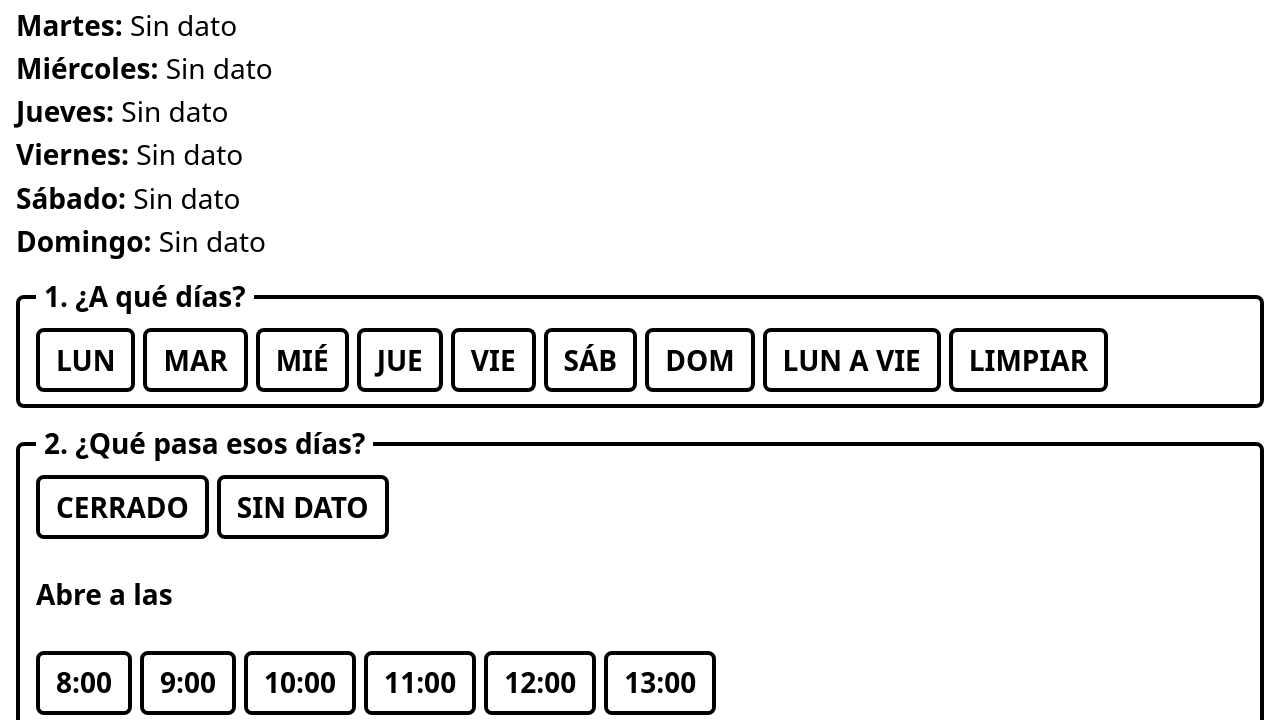
Test case: horario del local (editor con botones) › un error al guardar se muestra y deja los cambios sin guardar
(page scrolled)
Click the button "LUN" at (86, 360), box x1=36 y1=328 x2=136 y2=392
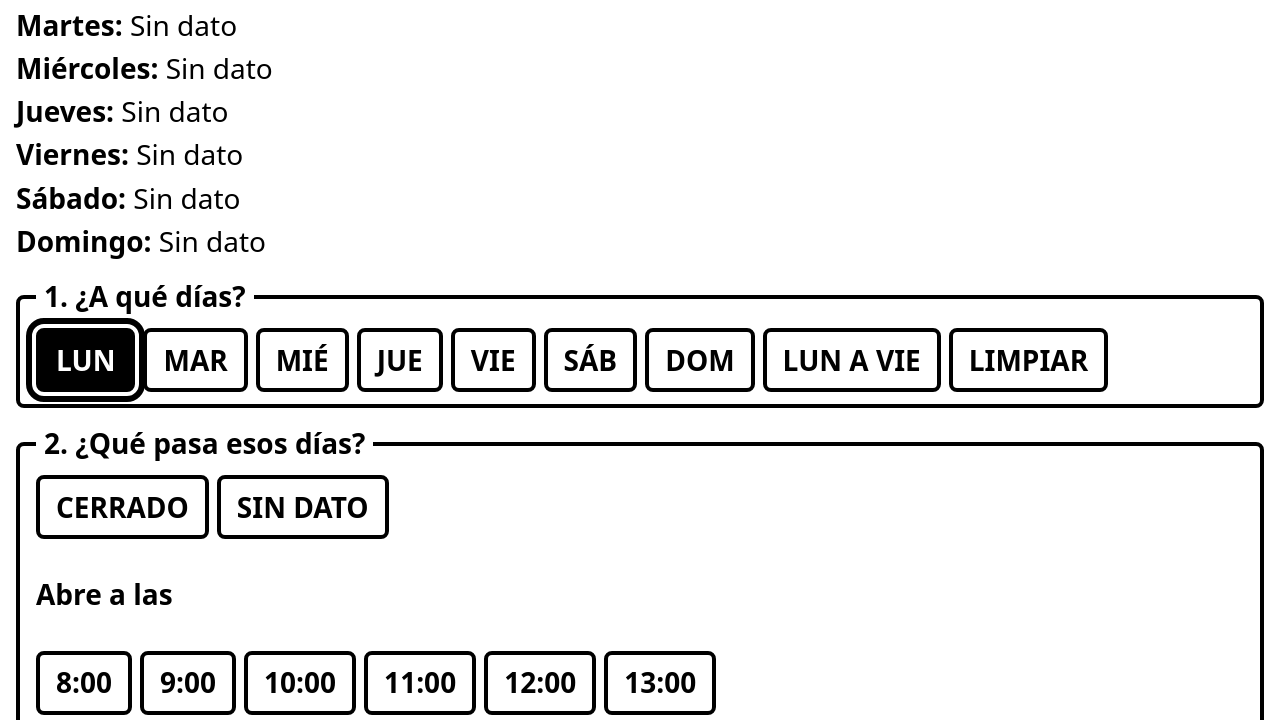
Click the button "CERRADO" at (122, 507), box x1=36 y1=475 x2=209 y2=539
(page scrolled)
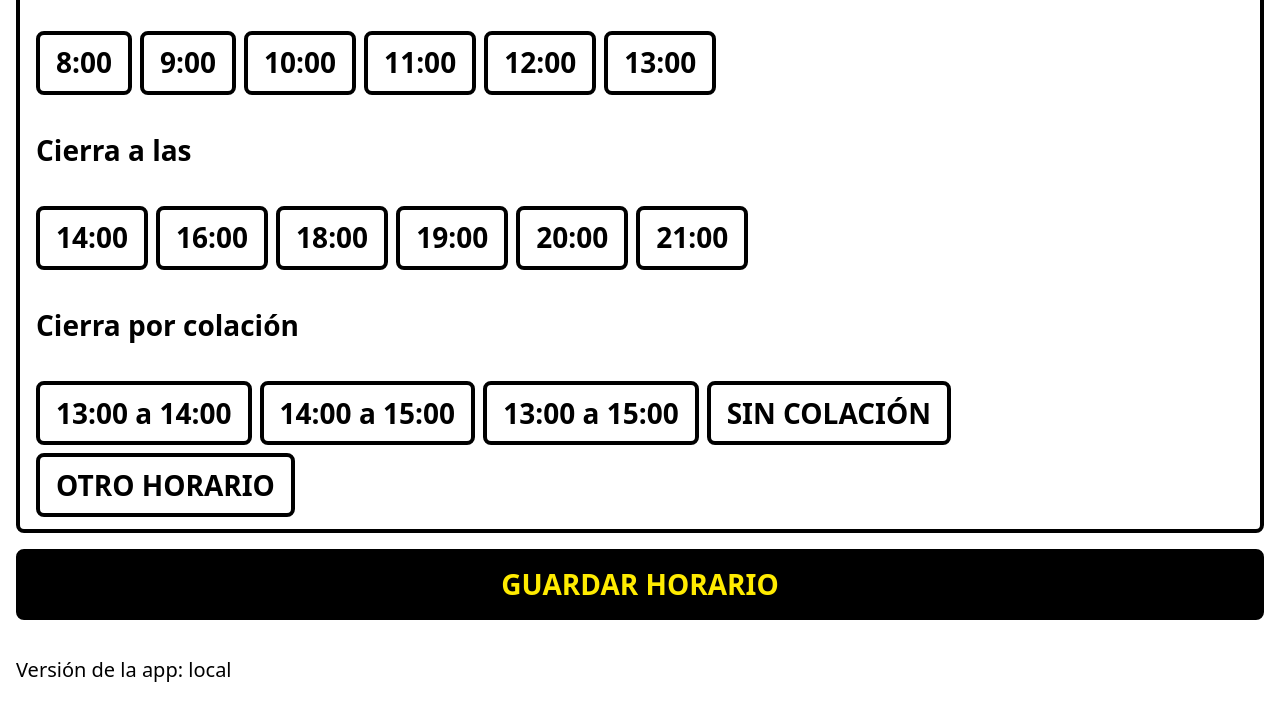
Click the button "GUARDAR HORARIO" at (640, 585), box x1=16 y1=549 x2=1264 y2=620
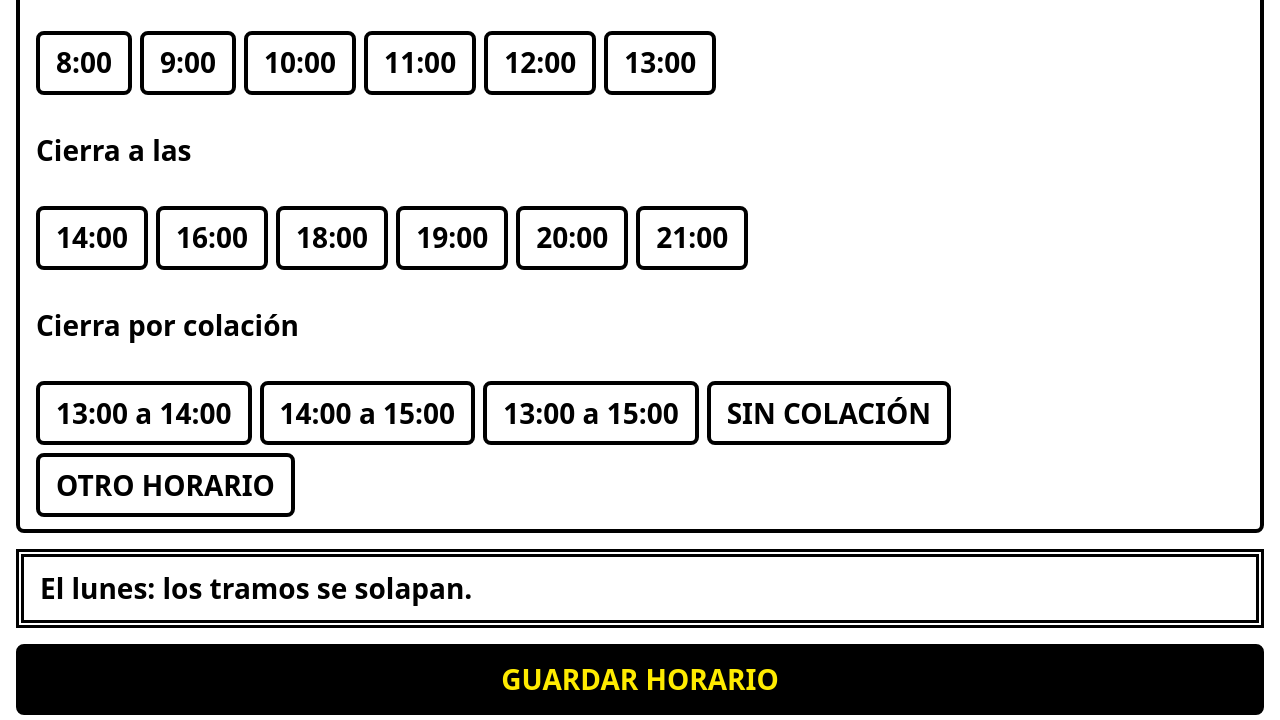
Expected: the button "GUARDAR HORARIO" is enabled, x1=16 y1=644 x2=1264 y2=716
Expected: the message reads "El lunes: los tramos se solapan.", x1=40 y1=569 x2=472 y2=607
